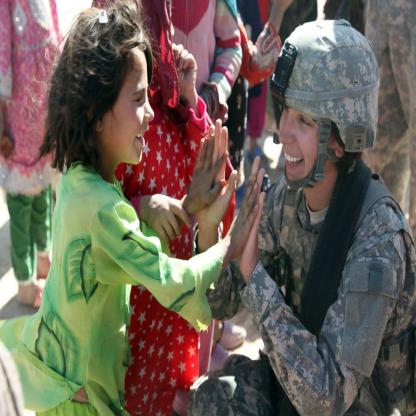Helmet: (269, 21, 380, 202)
